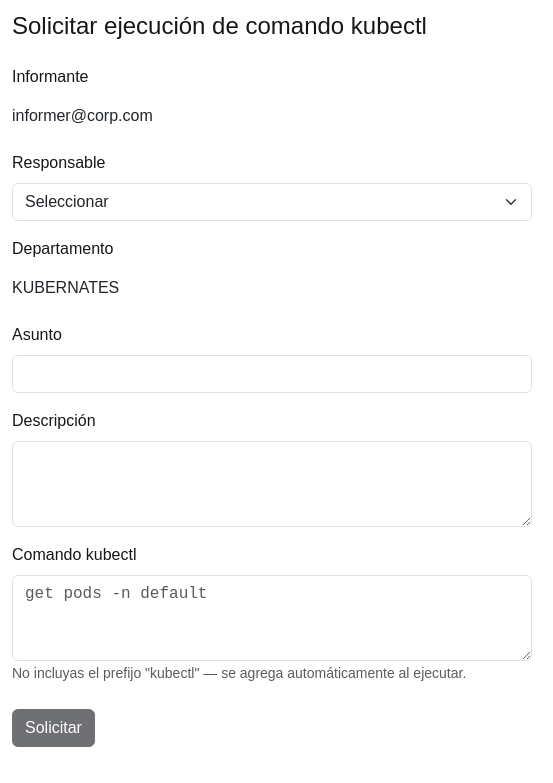
Test: KubectlCommandTicketForm › shows the error when creation fails
Select "Ana" in the dropdown labelled "Responsable": (272, 202) [12,183,532,221]
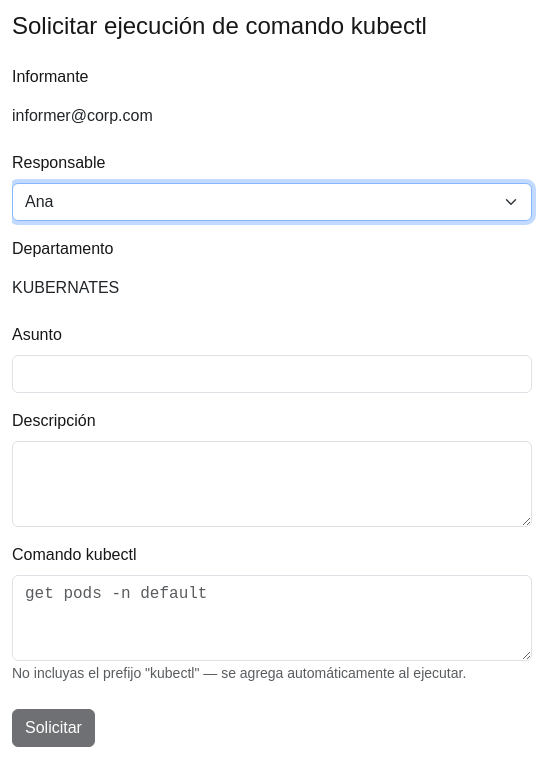
In the field labelled "Asunto": (272, 374) [12,355,532,393], type "Add index"
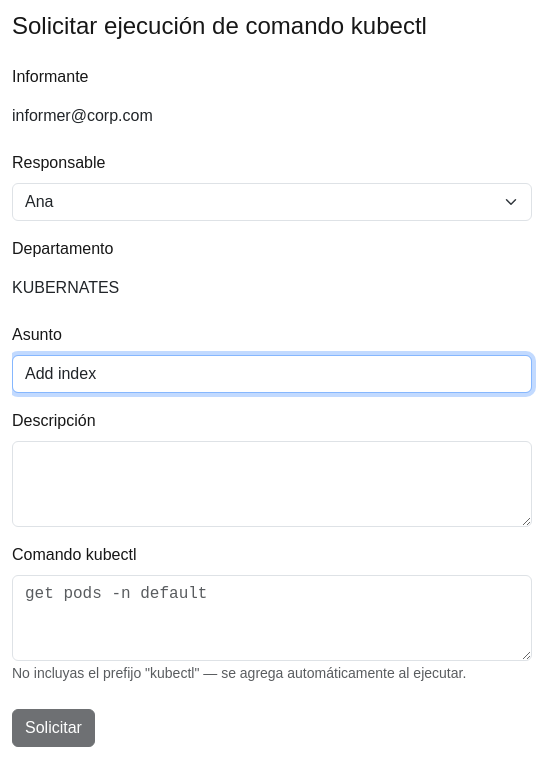
In the text box labelled "Descripción": (272, 484) [12,441,532,527], type "Needs an index"
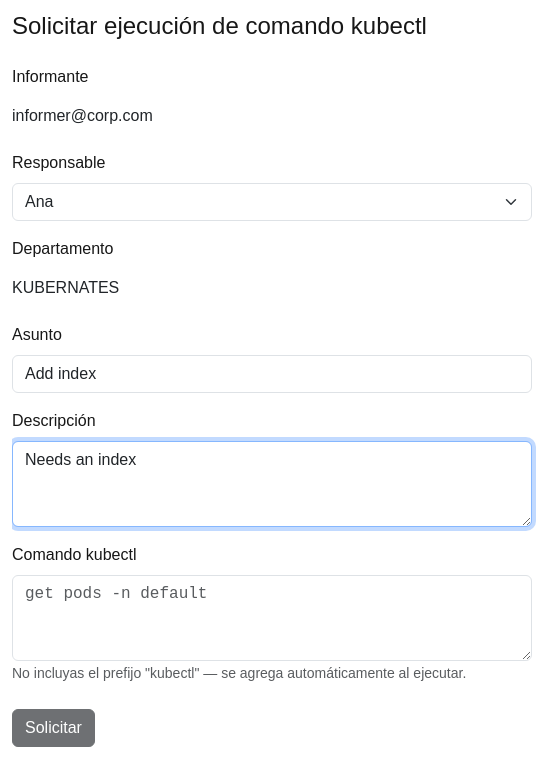
In the text box labelled "Comando kubectl": (272, 618) [12,575,532,661], type "get pods"
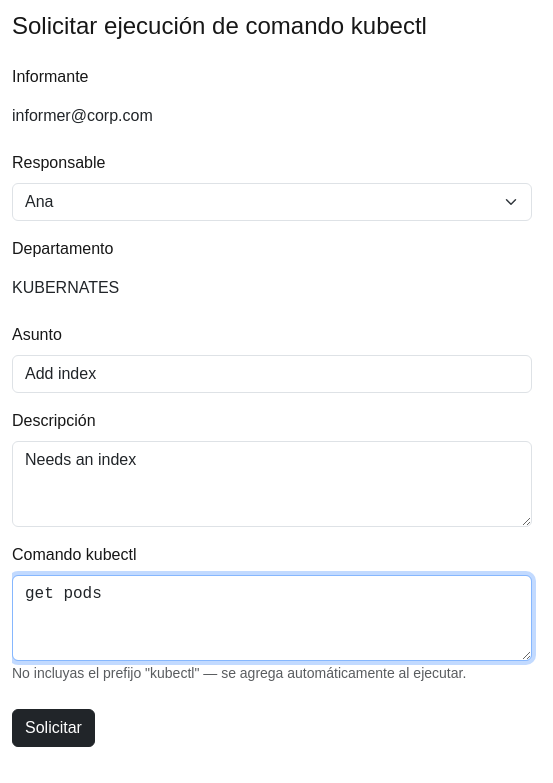
Click the button "Solicitar": (53, 728) [12,709,95,747]
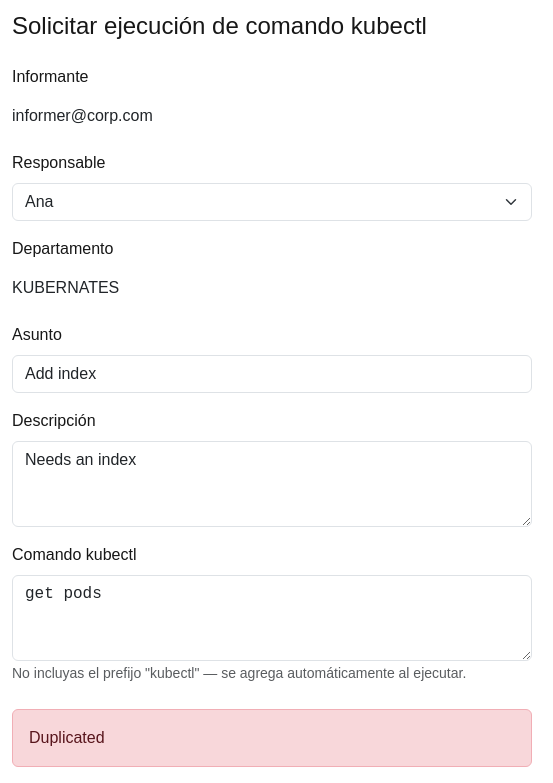
Check: the text "Duplicated" is shown, box [12,709,532,767]
